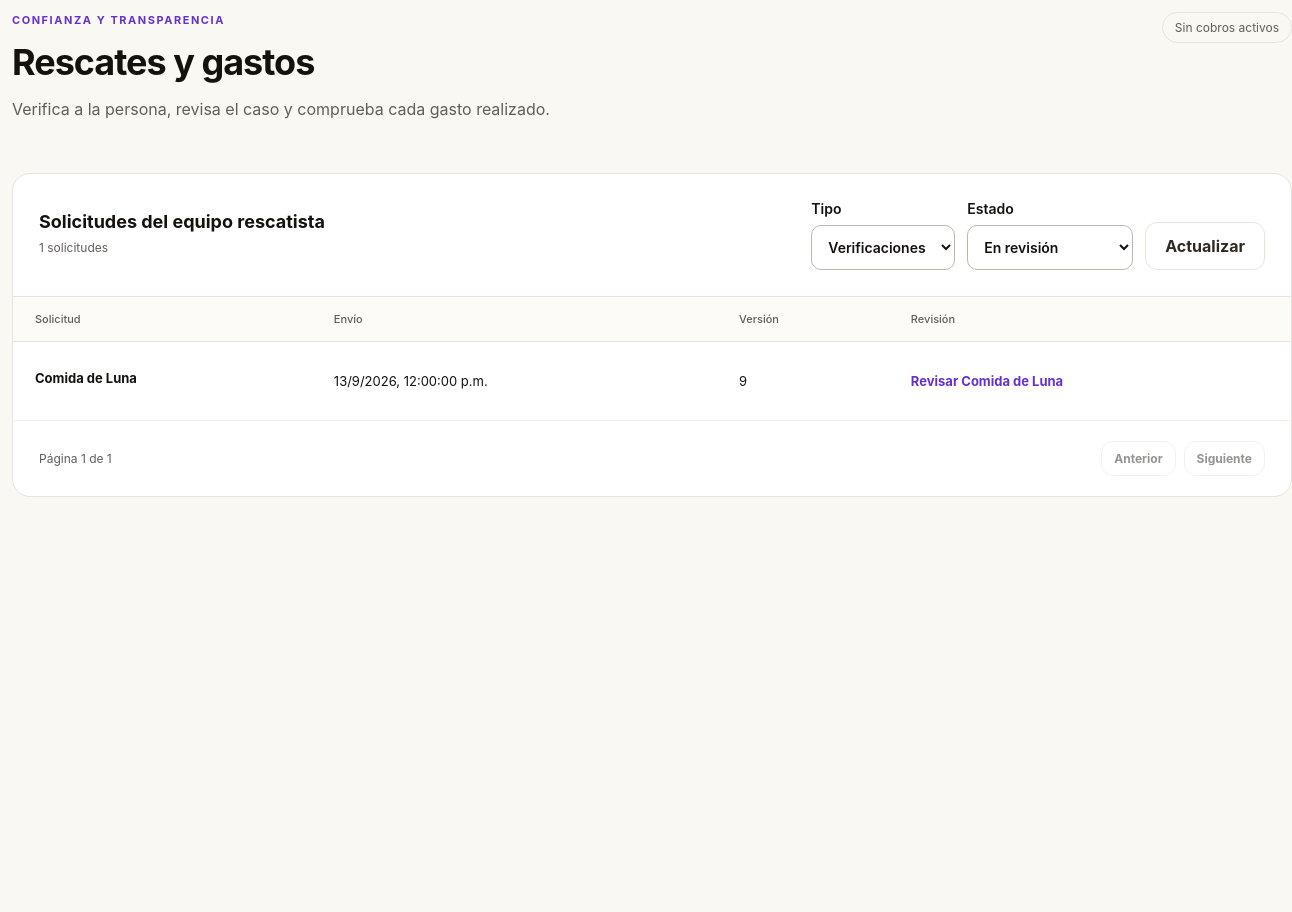
rescue review › discards the private record when the server denies access
The width and height of the screenshot is (1292, 912).
Click the button "Revisar Comida de Luna". click: {"x": 987, "y": 381}
box: 911,363 -> 1063,399
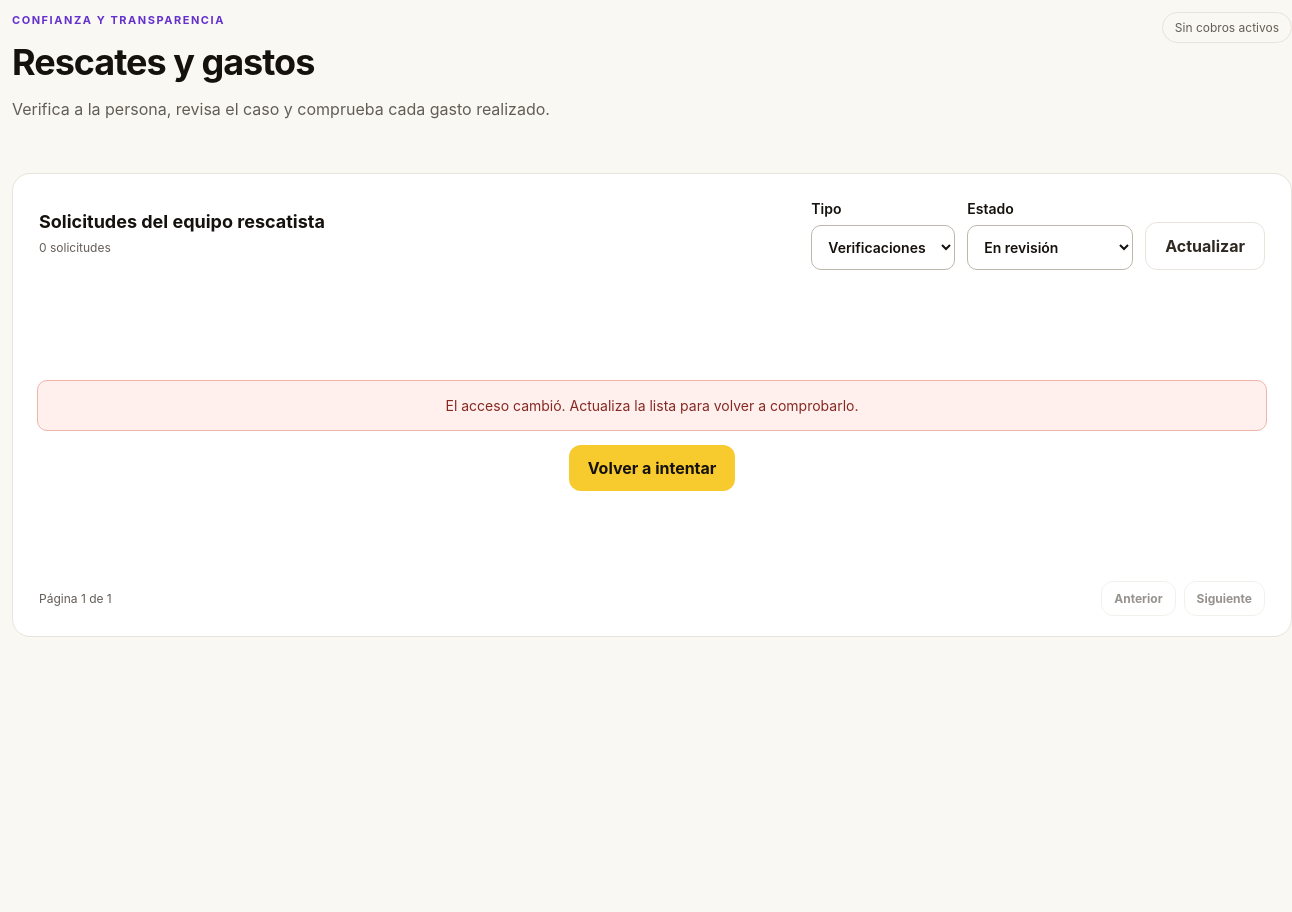
Check: the text "El acceso cambió. Actualiza la lista para volver a comprobarlo." is shown, box 37,380 -> 1267,431
